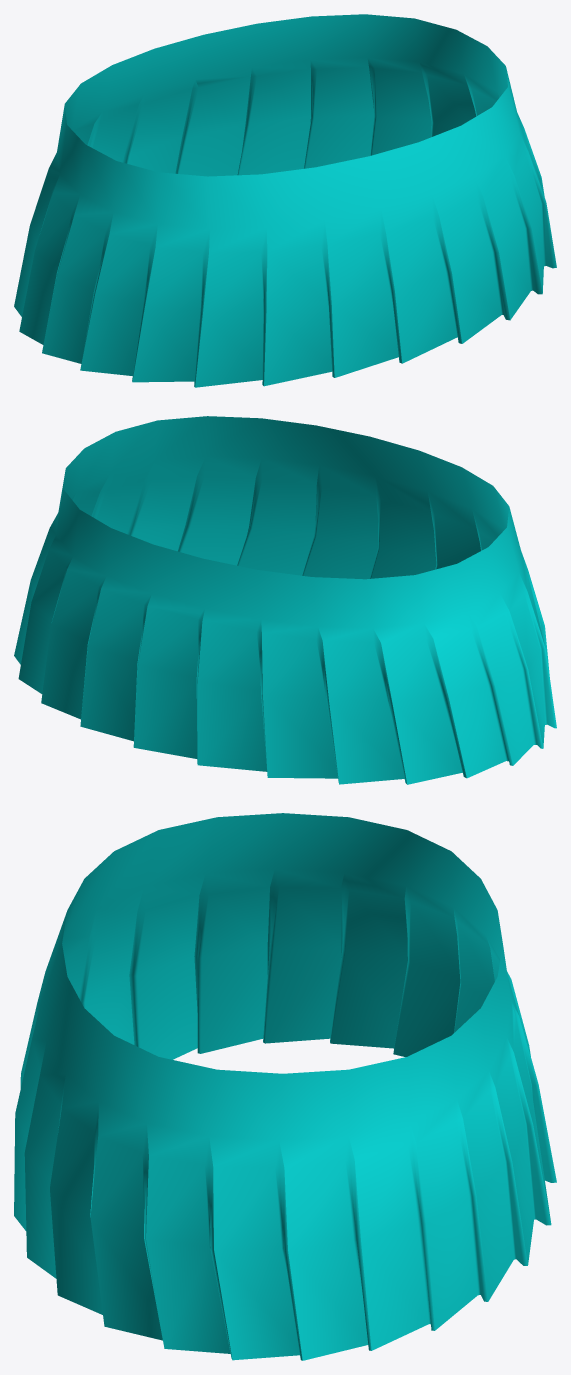
File: Skirt_A (1).fbx
3 renders of one model, top to bottom at view 1: azimuth 30°, elevation 25°; view 2: azimuth 150°, elevation 25°; view 3: azimuth 270°, elevation 25°, orthographic. The views are drawn at different scales.
Visible parts, largest first — view 1: Skirt_A; view 2: Skirt_A; view 3: Skirt_A.
Boxes of the visible parts, x1,y1,x2,y2 form: Skirt_A: (14,14,556,387); Skirt_A: (14,416,556,784); Skirt_A: (14,813,556,1360).
Size of the model in its own units: 130 by 49.24 by 92.13.
